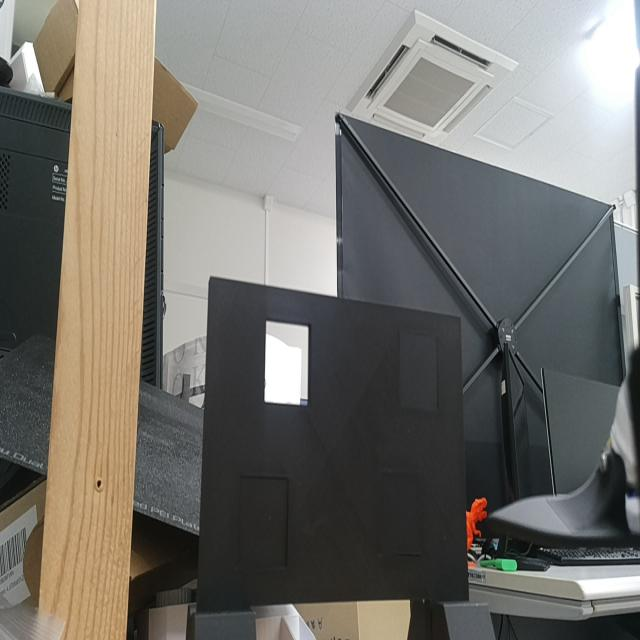Obstacle: (264, 319, 312, 405)
Wall: (196, 277, 469, 611)
